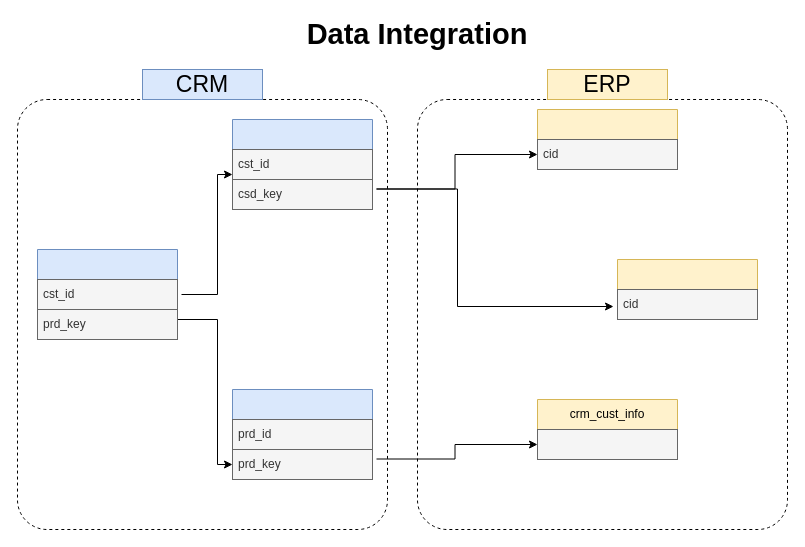
The diagram is 805 pixels wide and 547 high, and some of its shapes have lost their labels. Each missing label, with the box of its shape:
cust_az12: (536, 108, 678, 170)
cust_info: (232, 118, 372, 210)
id: (536, 428, 678, 460)
loc_a101: (616, 258, 758, 320)
prd_info: (232, 388, 372, 480)
sales_details: (36, 248, 178, 340)
